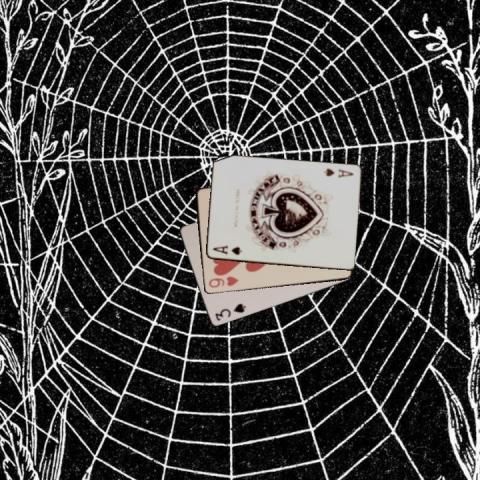3s: (212, 301, 247, 322)
9h: (205, 273, 240, 290)
As: (320, 165, 354, 179), (210, 243, 244, 256)
